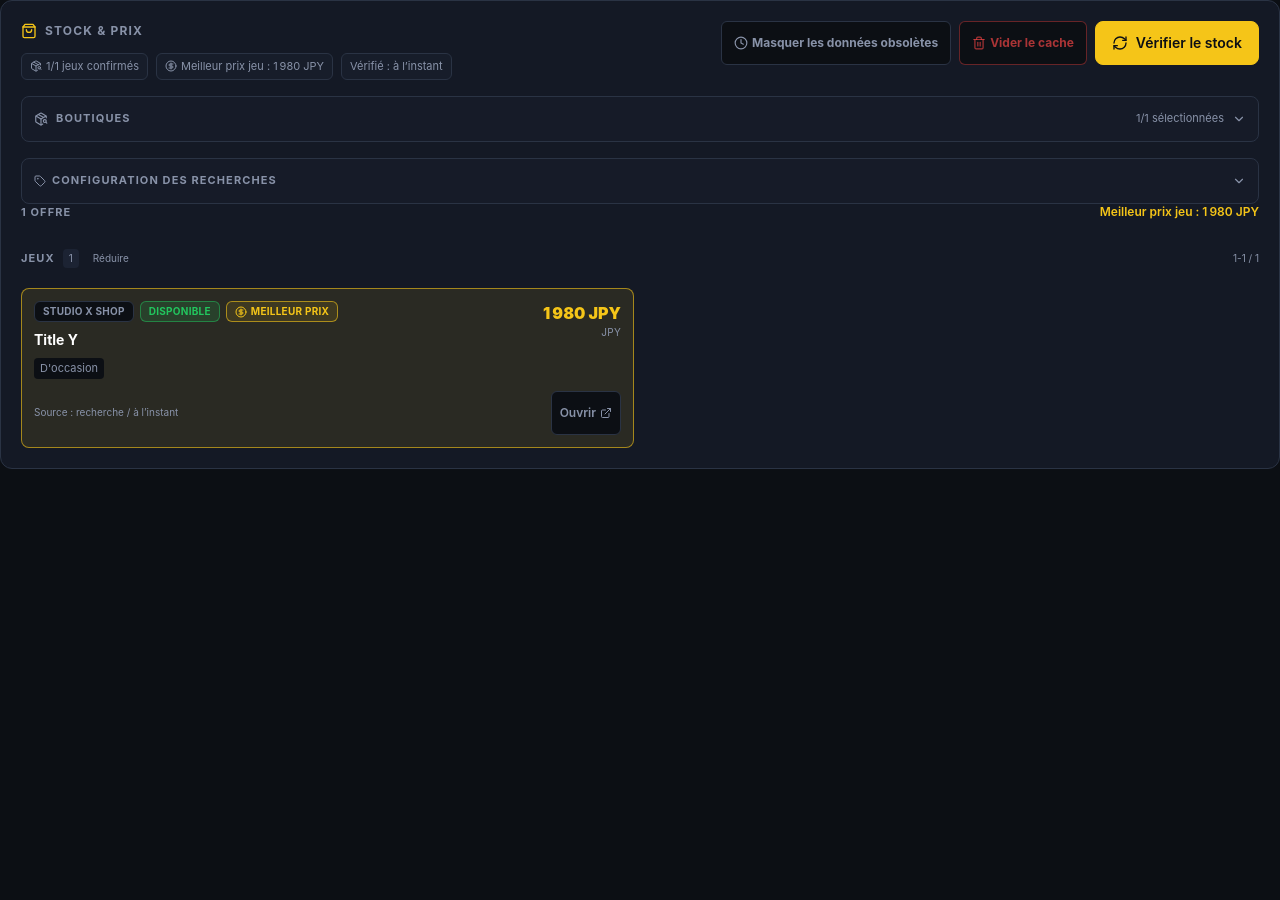
Test: StockPanel branches › keeps form submit buttons inert for blank values and while loading
Click the heading "Configuration des recherches": (164, 180) [34, 173, 1246, 188]
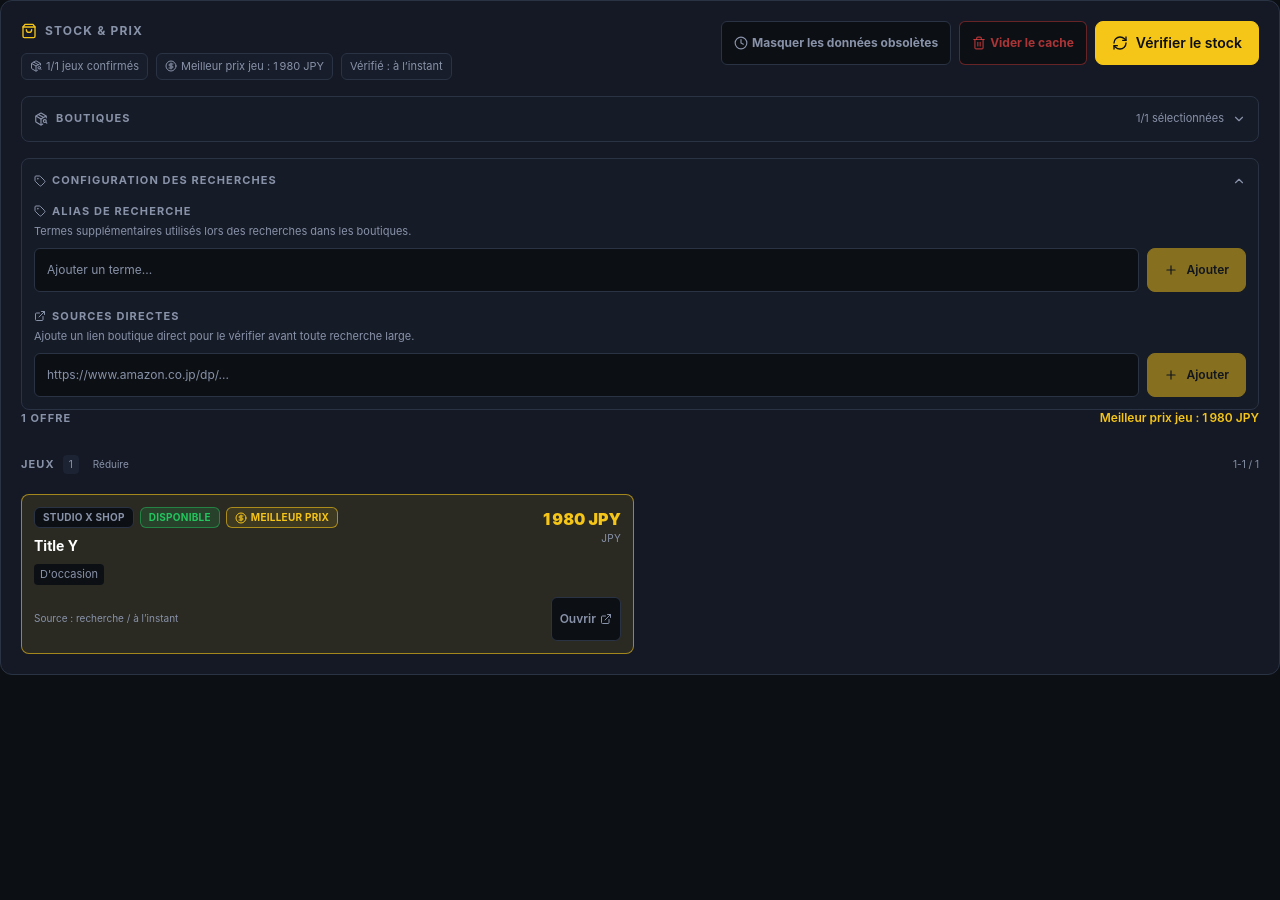
expect the 1st button "Ajouter" is disabled: met, box [1148, 248, 1246, 292]
In the field labelled "Ajouter un terme...": (587, 270) [34, 248, 1140, 292], type "Slow Alias"
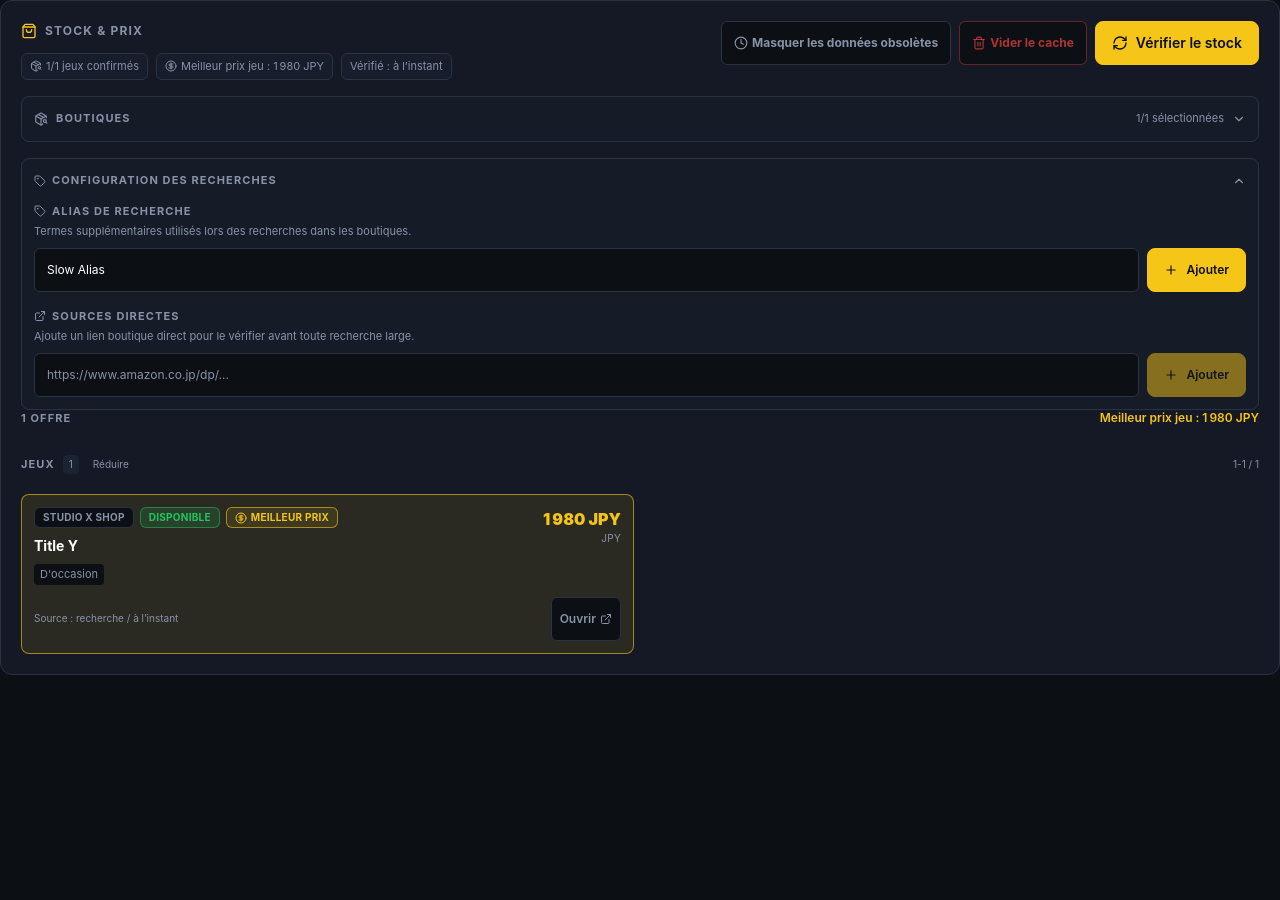
Click the 1st button "Ajouter": (1197, 270) [1148, 248, 1246, 292]
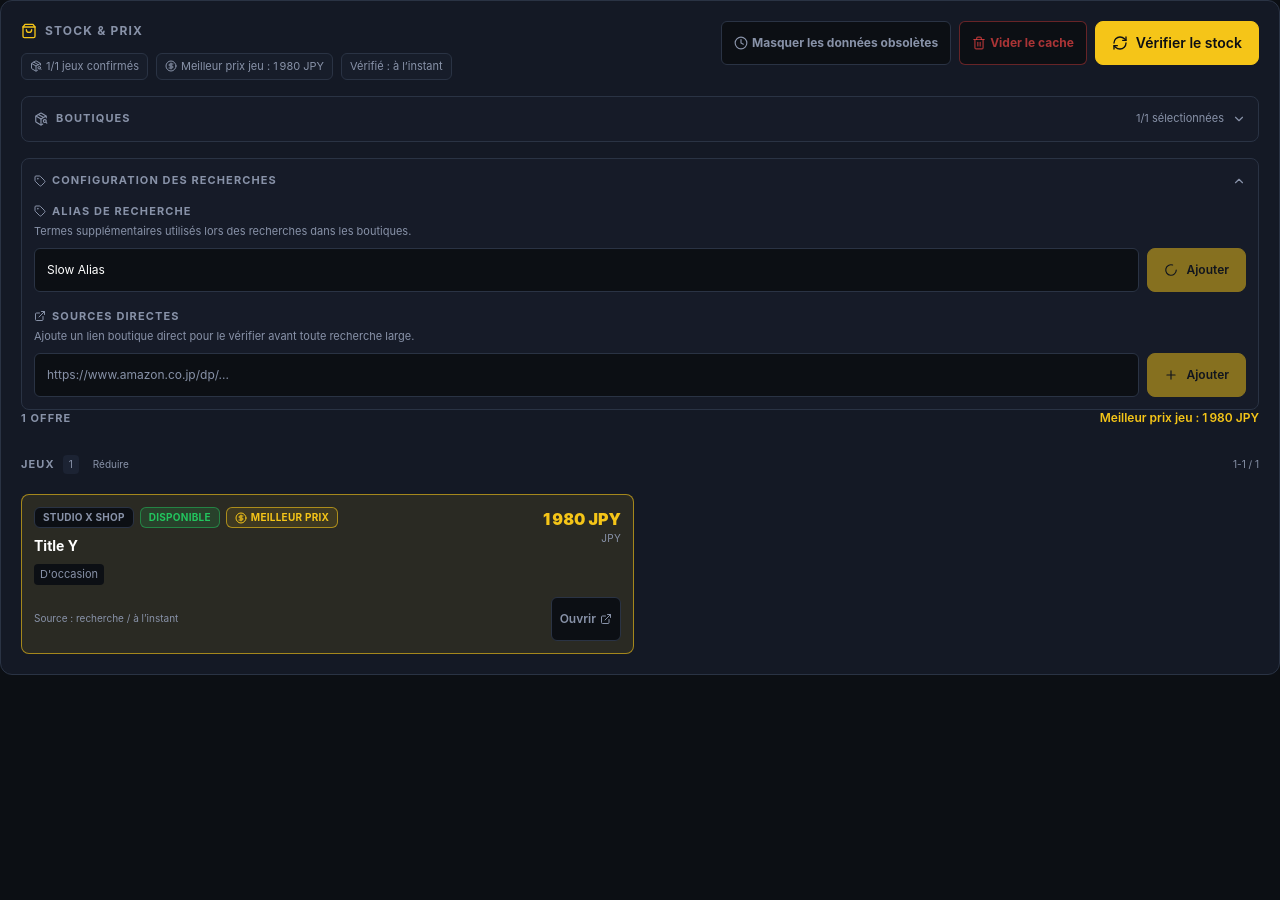
expect the 1st button "Ajouter" is disabled: met, box [1148, 248, 1246, 292]
Submit the form named "Ajouter un terme...", box [34, 248, 1246, 292]
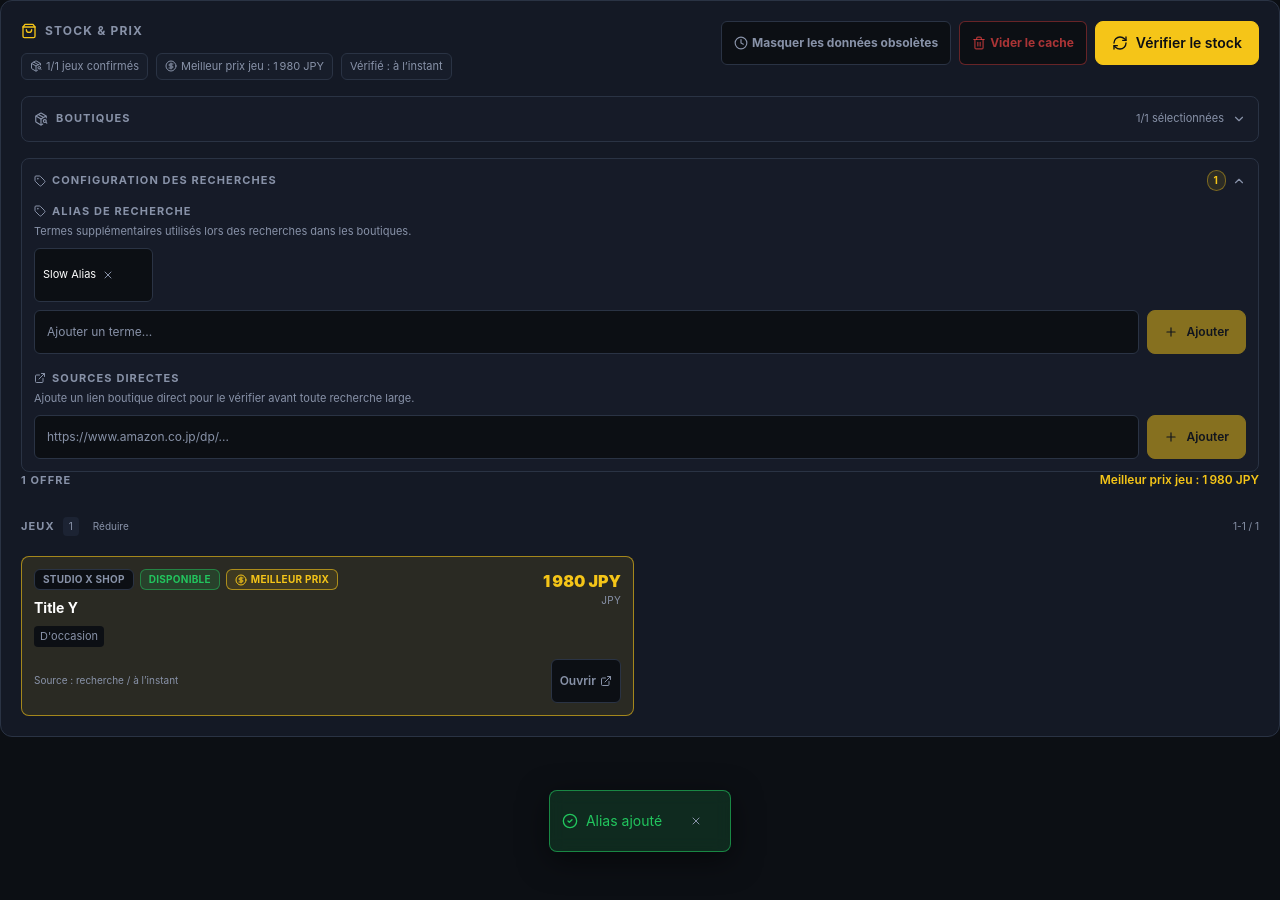
expect the text "Alias ajouté" is shown: met, box [586, 811, 662, 831]
